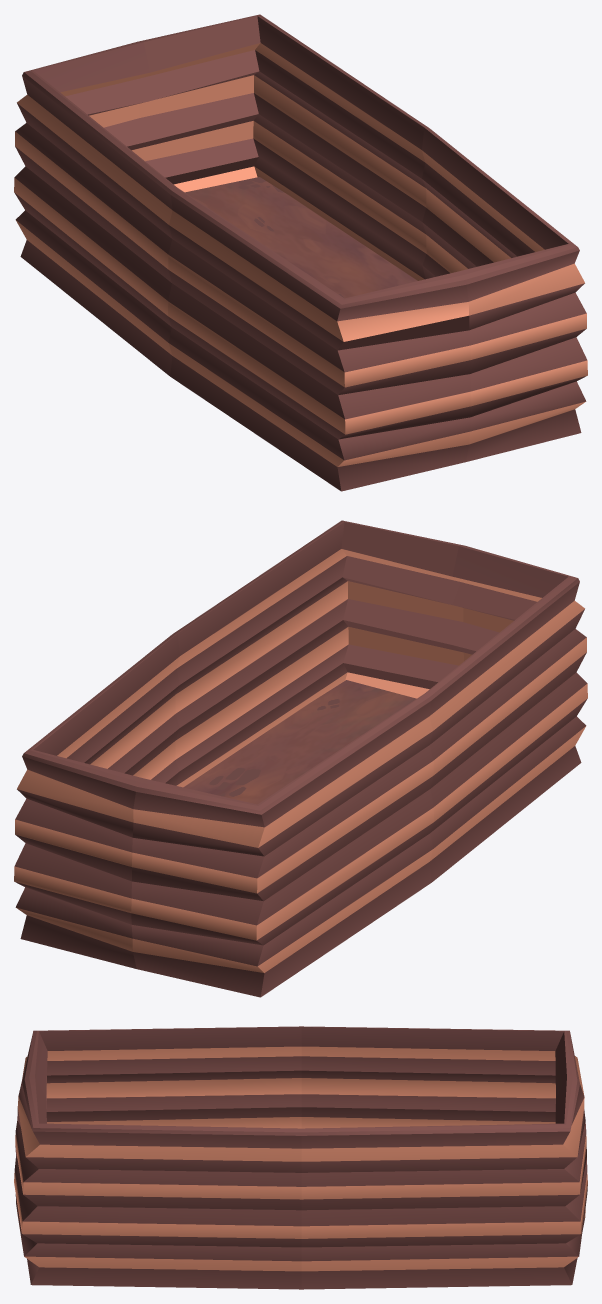
The model's file is VasoRetangular.fbx.
The picture shows the model from 3 angles, top to bottom: view 1: azimuth 30°, elevation 25°; view 2: azimuth 150°, elevation 25°; view 3: azimuth 270°, elevation 25°; orthographic projection. The views are drawn at different scales.
Parts seen in each view (by area): view 1: VaseR_LOD0; view 2: VaseR_LOD0; view 3: VaseR_LOD0.
Boxes of the visible parts, x1,y1,x2,y2 form: VaseR_LOD0: [14, 14, 587, 491]; VaseR_LOD0: [14, 520, 587, 997]; VaseR_LOD0: [14, 1026, 587, 1289].
Size of what is drawn, in the model's own units: 74.7 by 50.79 by 166.
